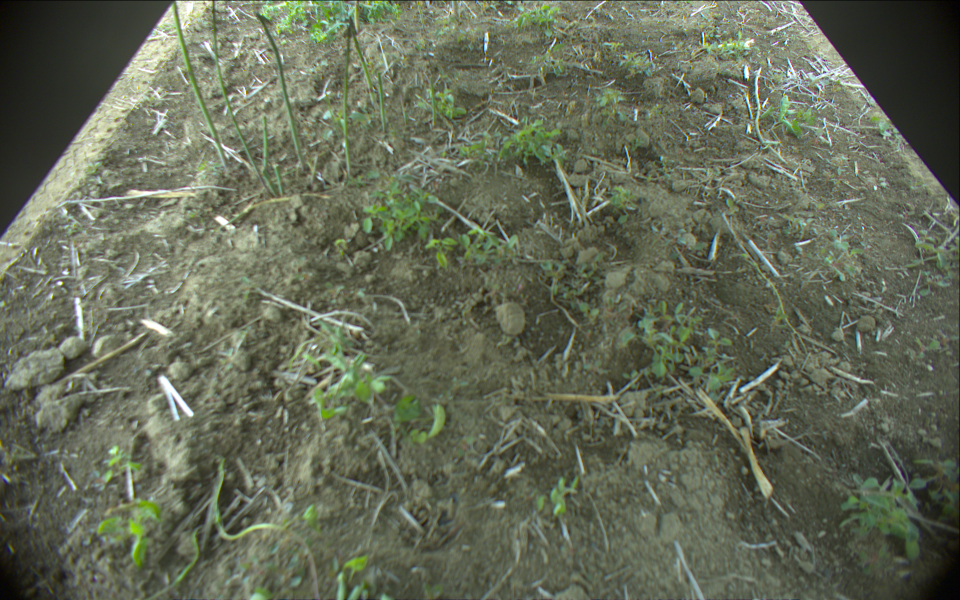aspa: (211, 1, 278, 195), (170, 1, 229, 167), (255, 11, 309, 170), (350, 25, 376, 102), (344, 22, 350, 174), (754, 67, 765, 145), (377, 69, 388, 133), (259, 114, 269, 173), (274, 164, 284, 197), (431, 76, 436, 126), (354, 1, 360, 30)
